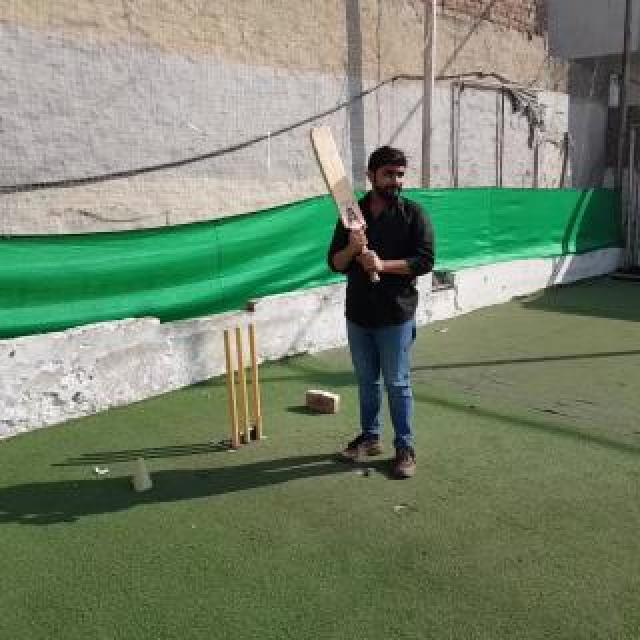bat: (310, 125, 380, 283)
